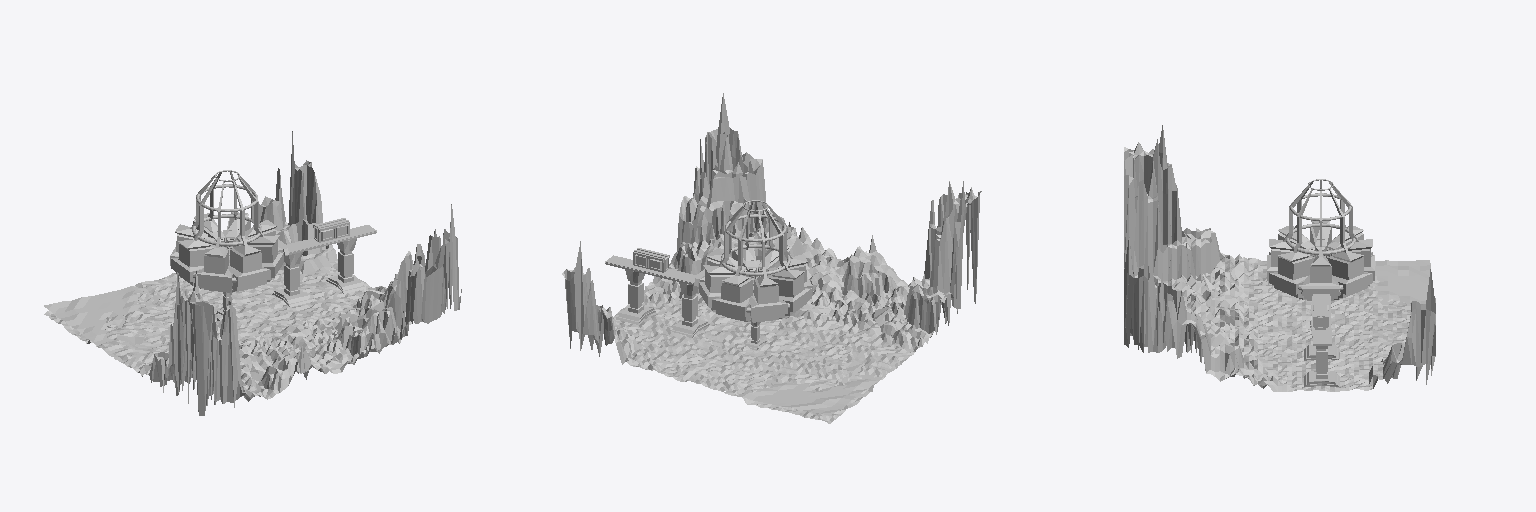
File: Levelv1.obj
3 renders of one model, left to right at view 1: azimuth 30°, elevation 25°; view 2: azimuth 150°, elevation 25°; view 3: azimuth 270°, elevation 25°, orthographic.
Parts seen in each view (by area): view 1: Plane, Cube, Cube.005_Cube.009, Cube.002_Cube.008, Cube.009_Cube.000; view 2: Plane, Cube, Cube.005_Cube.009, Cube.002_Cube.008, Cube.009_Cube.000; view 3: Plane, Cube, Cube.005_Cube.009.
Part boxes in pixels (x1,y1,x2,y2): Plane: (44,131,461,415); Cube: (170,170,289,292); Cube.005_Cube.009: (326,238,365,293); Cube.002_Cube.008: (272,252,311,306); Cube.009_Cube.000: (313,218,349,242); Plane: (562,93,981,423); Cube: (693,200,812,322); Cube.005_Cube.009: (616,269,655,324); Cube.002_Cube.008: (670,282,709,337); Cube.009_Cube.000: (633,248,669,272); Plane: (1124,125,1435,391); Cube: (1267,179,1374,300); Cube.005_Cube.009: (1304,346,1339,386).
Bounding box in the file's own units: 83.03 × 46.15 × 81.25.